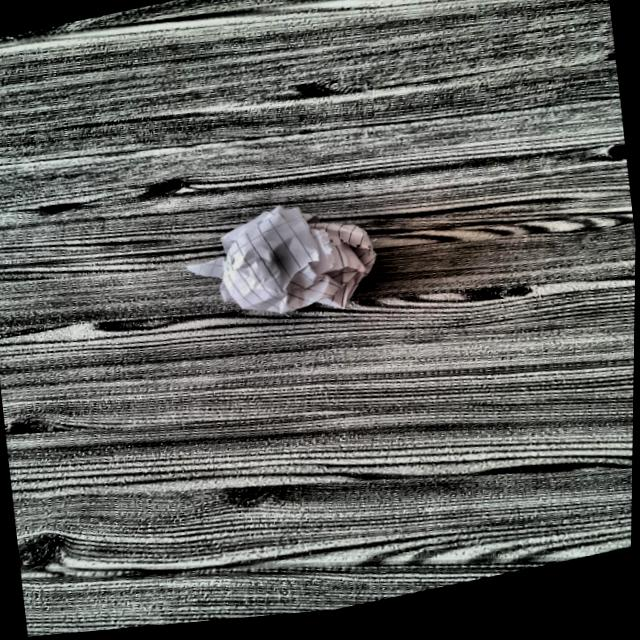Paper: (200, 196, 386, 340)
